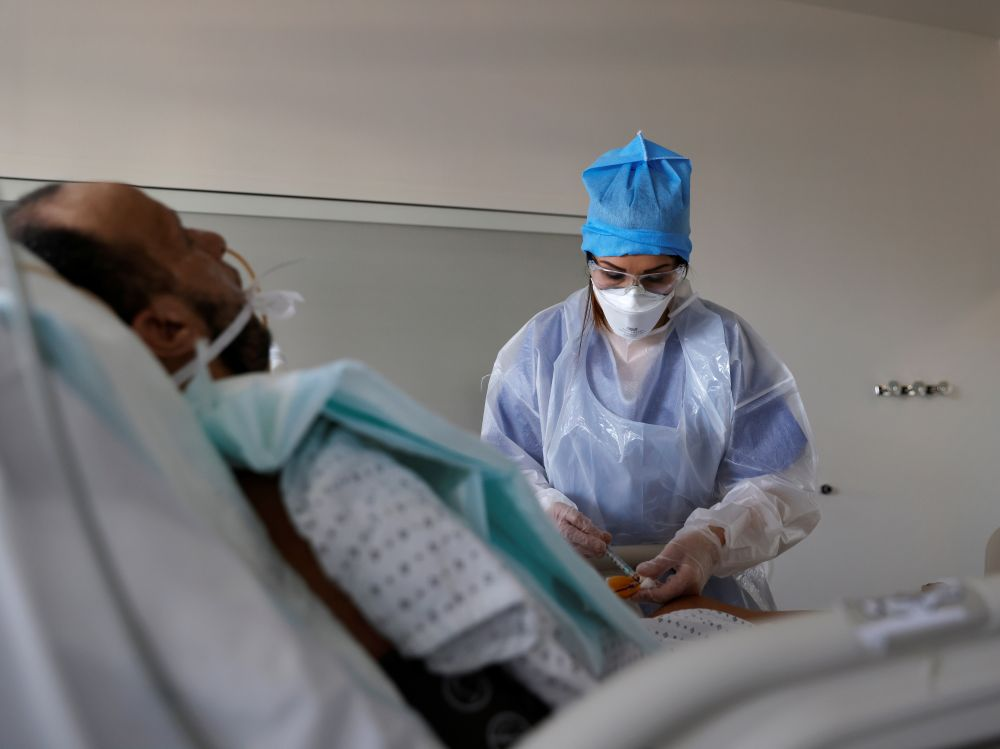with_mask: (597, 254, 674, 337)
without_mask: (93, 207, 240, 351)
